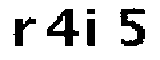4: (44, 4, 79, 50)
5: (112, 6, 151, 54)
i: (83, 8, 99, 48)
r: (9, 14, 41, 50)
